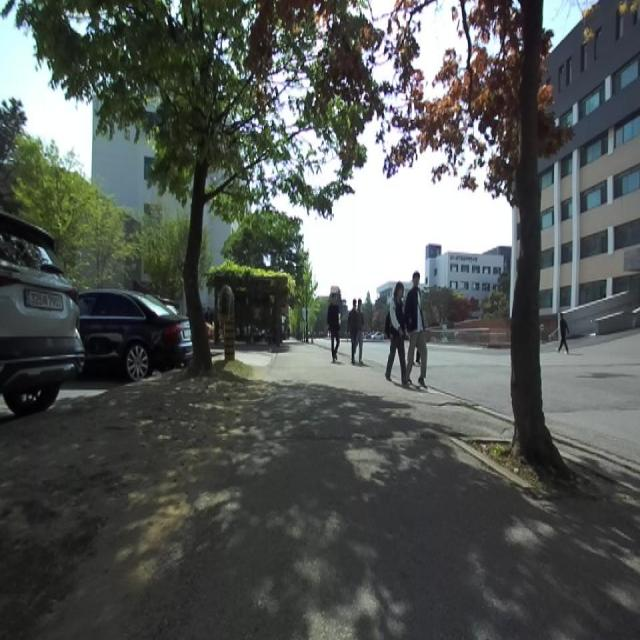sidewalk: (211, 343, 640, 638)
